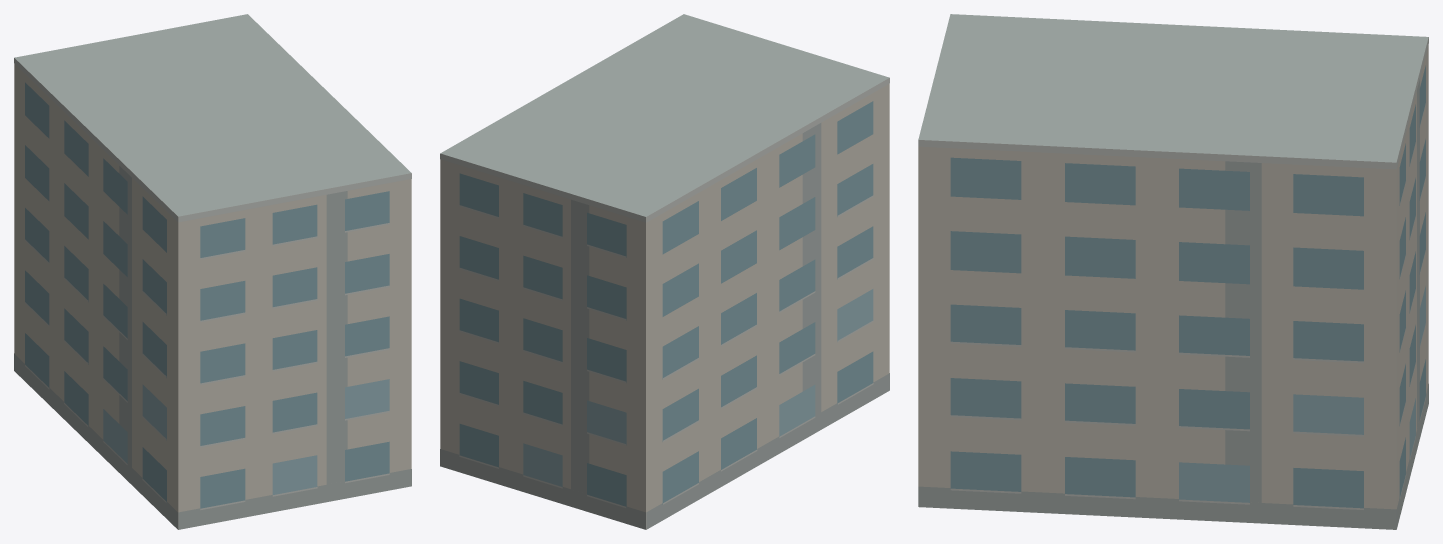
The model's file is survey-upis-32964744.glb.
The picture shows the model from 3 angles, left to right: view 1: azimuth 30°, elevation 25°; view 2: azimuth 150°, elevation 25°; view 3: azimuth 270°, elevation 25°; orthographic projection. The views are drawn at different scales.
Parts seen in each view (by area): view 1: survey-upis-32964744.tmp; view 2: survey-upis-32964744.tmp; view 3: survey-upis-32964744.tmp.
Part boxes in pixels (<box>): survey-upis-32964744.tmp: <box>14,14,411,529</box>; survey-upis-32964744.tmp: <box>440,14,889,529</box>; survey-upis-32964744.tmp: <box>918,14,1428,529</box>.
Bounding box in the file's own units: 11.47 × 13.2 × 16.64.
